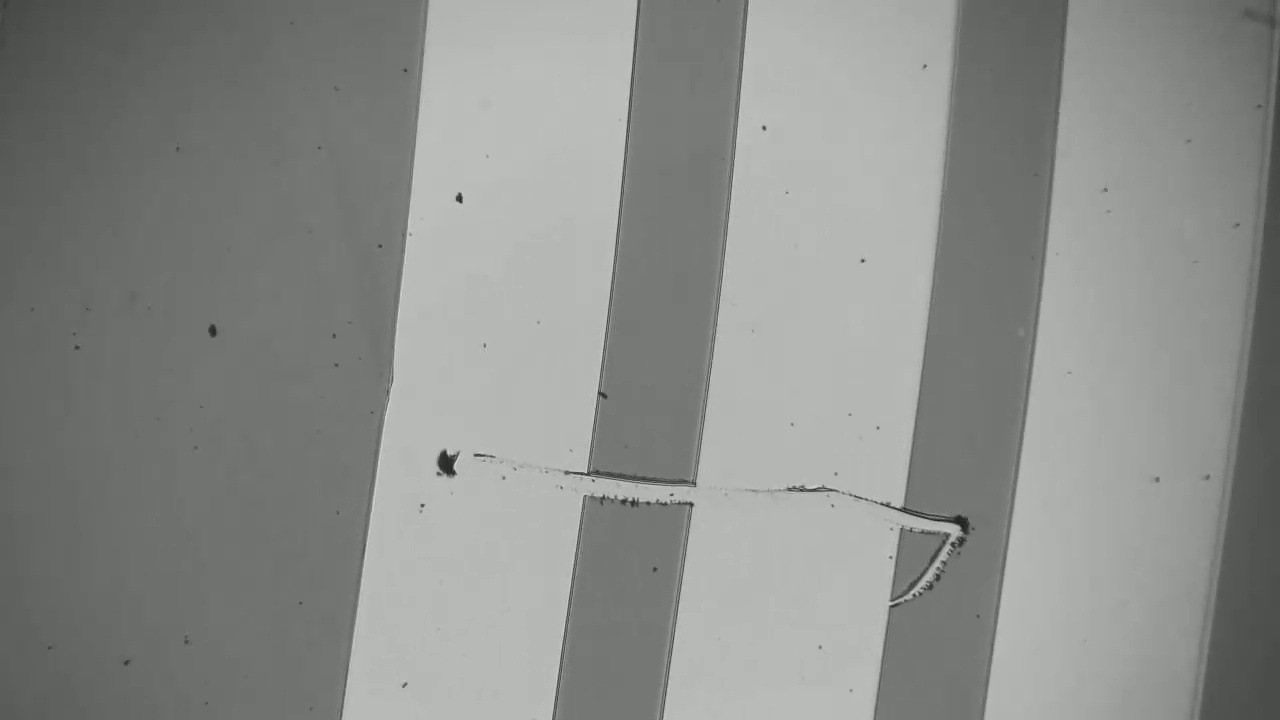Short_circuit: (552, 456, 733, 534), (865, 483, 1035, 558)
